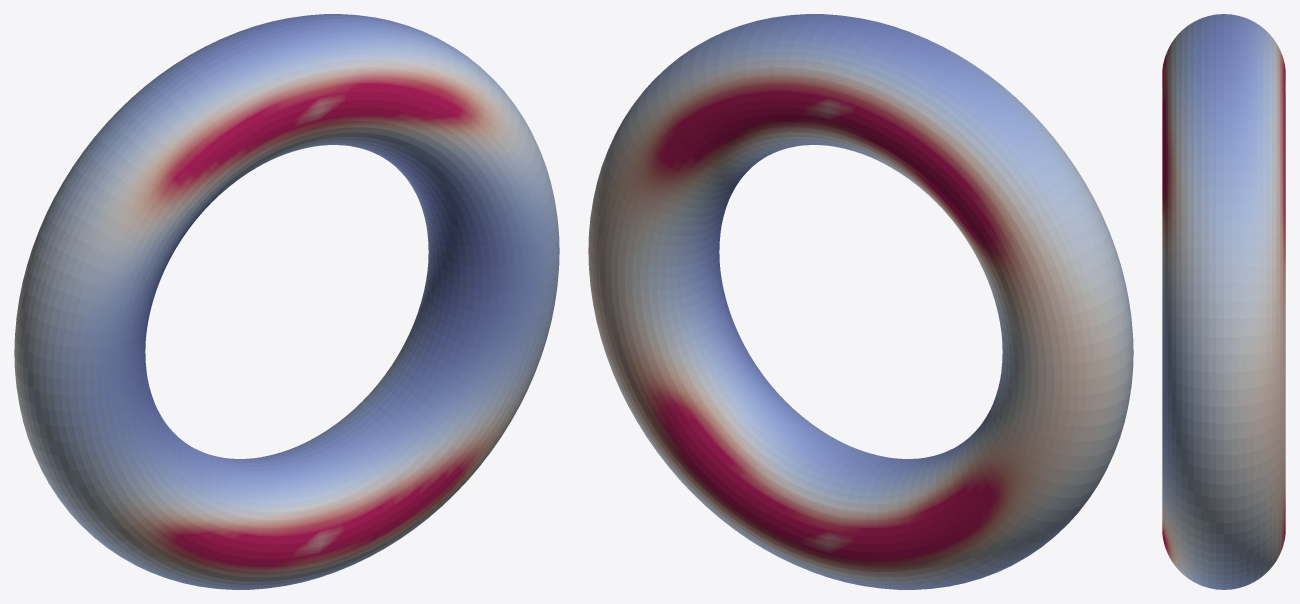
The picture shows the model from 3 angles, left to right: view 1: azimuth 30°, elevation 25°; view 2: azimuth 150°, elevation 25°; view 3: azimuth 270°, elevation 25°; orthographic projection. The views are drawn at different scales.
Visible parts, largest first — view 1: world; view 2: world; view 3: world.
Boxes of the visible parts, <box> form: world: <box>14,14,559,589</box>; world: <box>588,14,1133,589</box>; world: <box>1162,14,1285,589</box>.
Size of the model in its own units: 22.93 by 22.93 by 4.92.
